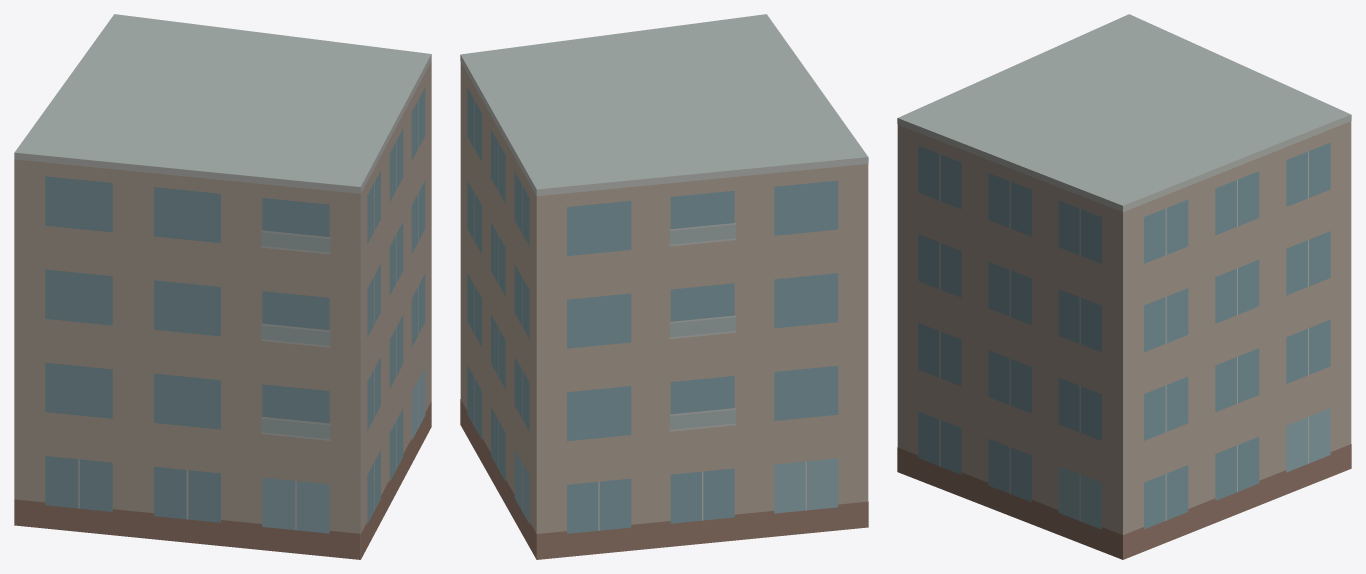
The model's file is survey-upis-32597818.glb.
3 renders of one model, left to right at view 1: azimuth 30°, elevation 25°; view 2: azimuth 150°, elevation 25°; view 3: azimuth 270°, elevation 25°, orthographic. The views are drawn at different scales.
Visible parts, largest first — view 1: survey-upis-32597818.tmp; view 2: survey-upis-32597818.tmp; view 3: survey-upis-32597818.tmp.
Boxes of the visible parts, left/top/right/bottom form: survey-upis-32597818.tmp: left=14, top=14, right=431, bottom=559; survey-upis-32597818.tmp: left=460, top=14, right=868, bottom=559; survey-upis-32597818.tmp: left=897, top=14, right=1351, bottom=559.
Size of the model in its own units: 15.58 by 13.4 by 15.57.
